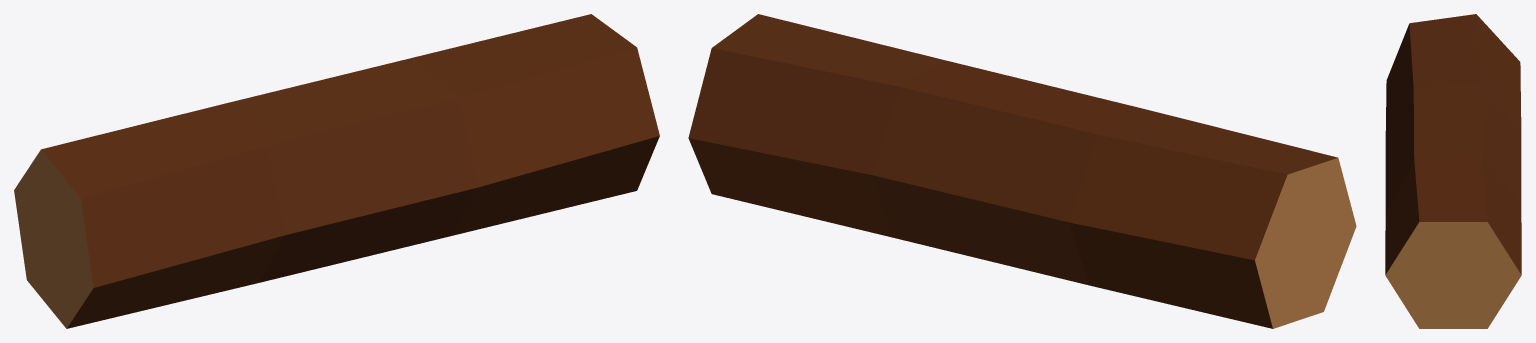
File: WoodLog1.fbx
3 renders of one model, left to right at view 1: azimuth 30°, elevation 25°; view 2: azimuth 150°, elevation 25°; view 3: azimuth 270°, elevation 25°, orthographic. The views are drawn at different scales.
Visible parts, largest first — view 1: Cylinder; view 2: Cylinder; view 3: Cylinder.
Part boxes in pixels (box(x1,y1,x2,y2)): Cylinder: box(14, 14, 659, 328); Cylinder: box(688, 14, 1356, 328); Cylinder: box(1385, 14, 1521, 328).
Size of the model in its own units: 4.65 by 1.22 by 1.3.
